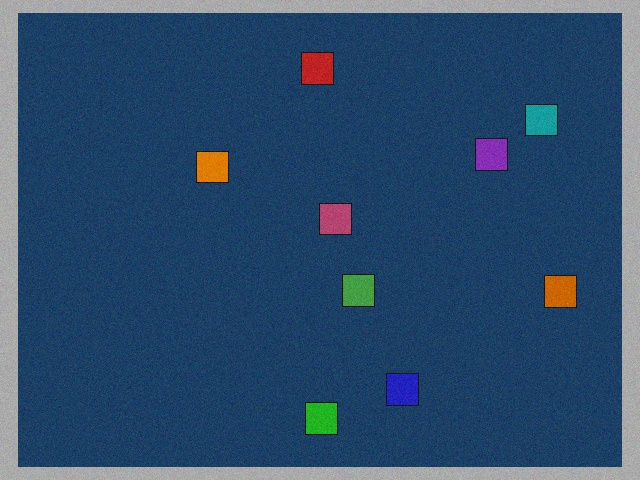block: (515, 104, 558, 142), (532, 274, 577, 308), (468, 139, 508, 174), (383, 366, 418, 406), (196, 151, 233, 186), (306, 394, 338, 434), (302, 53, 334, 93), (341, 273, 374, 307), (319, 203, 351, 235)
